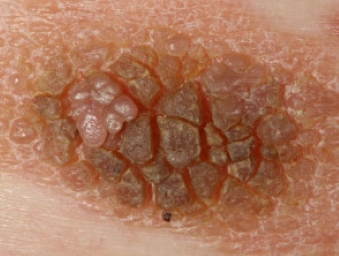seborrheic keratosis: (11, 16, 314, 230)
